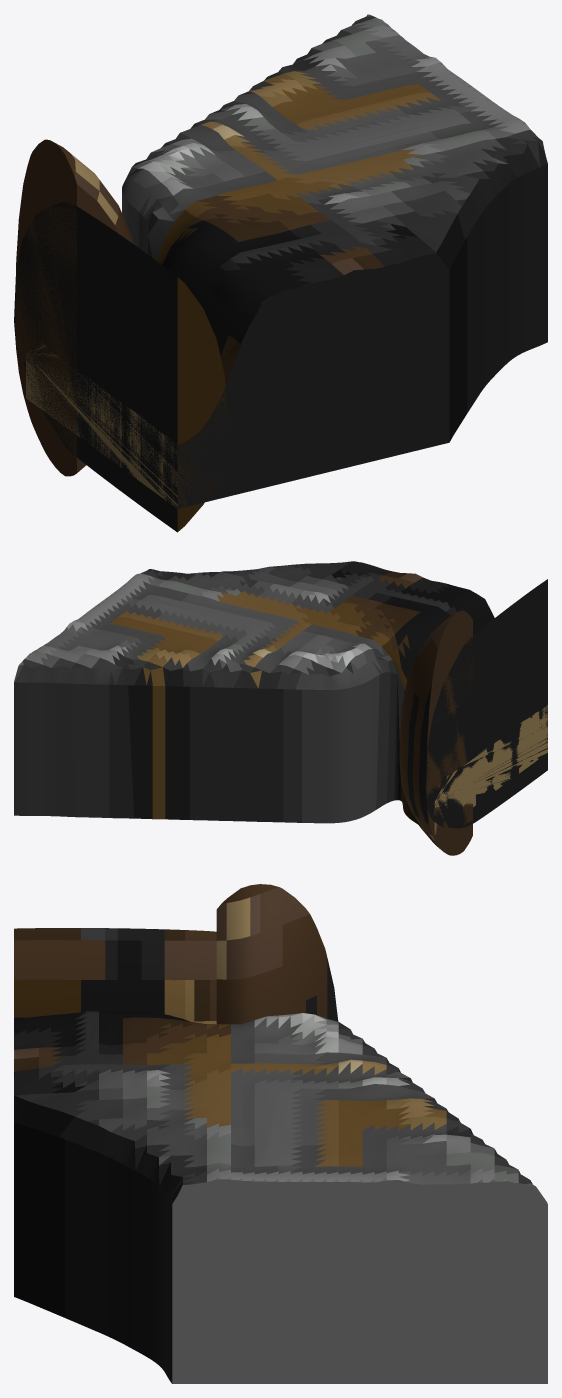
File: tusk_boss_16.glb
3 renders of one model, top to bottom at view 1: azimuth 30°, elevation 25°; view 2: azimuth 150°, elevation 25°; view 3: azimuth 270°, elevation 25°, orthographic. The views are drawn at different scales.
Visible parts, largest first — view 1: tusk_boss_16_plates; view 2: tusk_boss_16_plates; view 3: tusk_boss_16_plates.
Boxes of the visible parts, x1,y1,x2,y2 form: tusk_boss_16_plates: (14, 14, 547, 532); tusk_boss_16_plates: (14, 561, 547, 855); tusk_boss_16_plates: (14, 884, 547, 1383).
Bounding box in the file's own units: 24 × 16.65 × 24.5.
